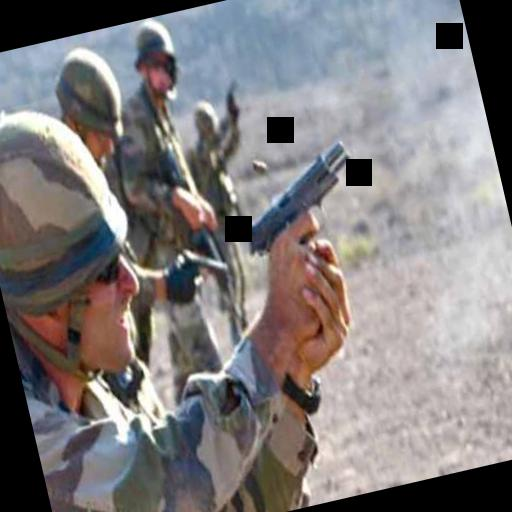Handgun: (226, 136, 374, 276)
